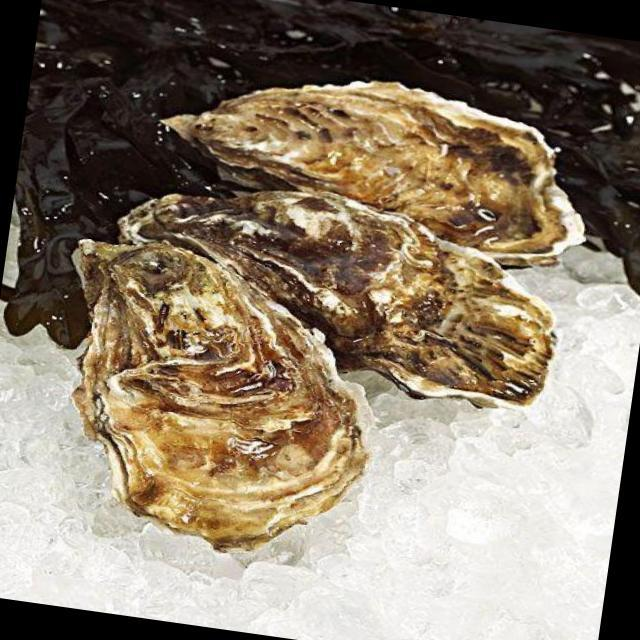Oyster- Indeterminate: (88, 161, 582, 423), (30, 225, 405, 570), (145, 46, 610, 278)
